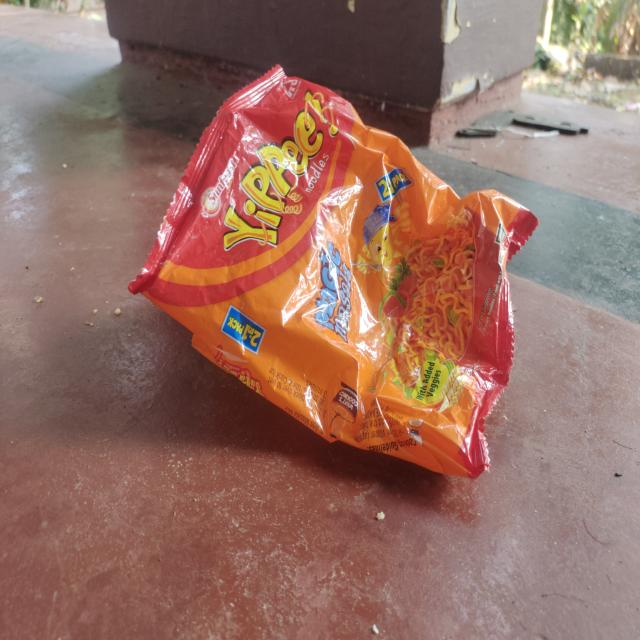plastic: (123, 60, 542, 485)
